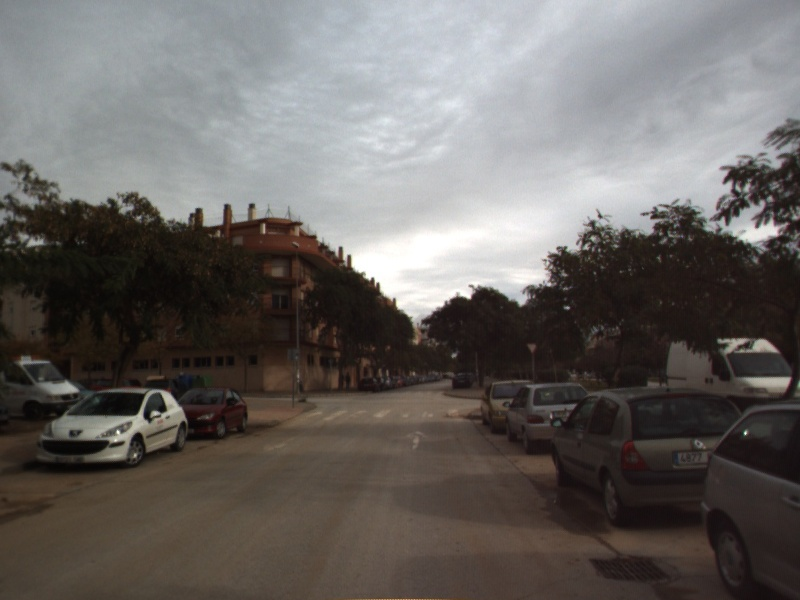STRAIGHT: (402, 429, 432, 452)
